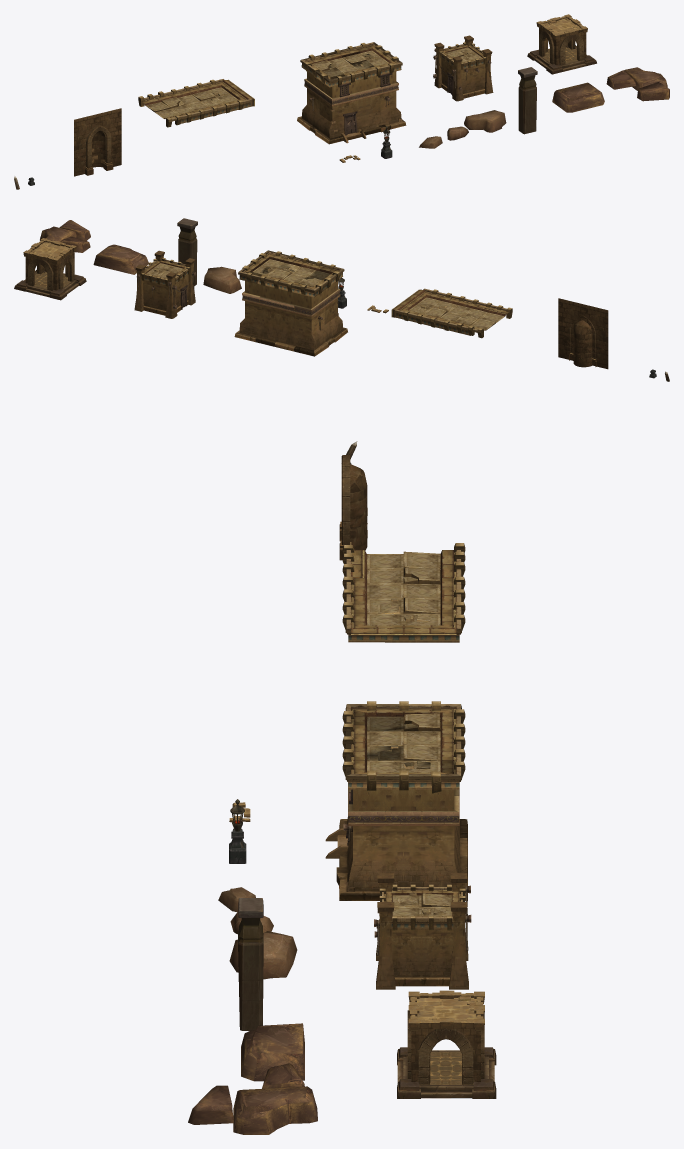
File: smyj_wj_001.FBX
3 renders of one model, top to bottom at view 1: azimuth 30°, elevation 25°; view 2: azimuth 150°, elevation 25°; view 3: azimuth 270°, elevation 25°, orthographic. The views are drawn at different scales.
Visible parts, largest first — view 1: smyj_wj_001, smyj_wj_011, smyj_wj_002, smyj_wj_015, smyj_wj_003, smyj_wj_017, smyj_wj_016, smyj_wj_012, smyj_wj_010, smyj_wj_008; view 2: smyj_wj_001, smyj_wj_011, smyj_wj_015, smyj_wj_002, smyj_wj_003, smyj_wj_016, smyj_wj_017, smyj_wj_010, smyj_wj_012, smyj_wj_008; view 3: smyj_wj_001, smyj_wj_011, smyj_wj_002, smyj_wj_003, smyj_wj_017, smyj_wj_016, smyj_wj_015, smyj_wj_012, smyj_wj_010.
Boxes of the visible parts, x1,y1,x2,y2 form: smyj_wj_001: (297, 42, 406, 144); smyj_wj_011: (138, 79, 254, 127); smyj_wj_002: (433, 35, 493, 101); smyj_wj_015: (74, 108, 121, 176); smyj_wj_003: (527, 14, 596, 74); smyj_wj_017: (606, 67, 669, 101); smyj_wj_016: (552, 82, 604, 112); smyj_wj_012: (518, 86, 536, 134); smyj_wj_010: (464, 110, 506, 132); smyj_wj_008: (518, 67, 537, 88); smyj_wj_001: (234, 250, 347, 356); smyj_wj_011: (391, 288, 512, 338); smyj_wj_015: (558, 298, 608, 369); smyj_wj_002: (134, 250, 196, 318); smyj_wj_003: (14, 238, 86, 300); smyj_wj_016: (93, 244, 148, 274); smyj_wj_017: (40, 220, 90, 252); smyj_wj_010: (203, 266, 241, 293); smyj_wj_012: (178, 238, 197, 285); smyj_wj_008: (177, 218, 197, 240); smyj_wj_001: (325, 701, 467, 900); smyj_wj_011: (342, 543, 465, 642); smyj_wj_002: (374, 873, 471, 989); smyj_wj_003: (397, 990, 496, 1098); smyj_wj_017: (188, 1063, 317, 1134); smyj_wj_016: (241, 1023, 304, 1081); smyj_wj_015: (339, 455, 367, 560); smyj_wj_012: (238, 932, 263, 1030); smyj_wj_010: (229, 931, 297, 979).
Size of the model in its own units: 7914 by 1182 by 1688.
